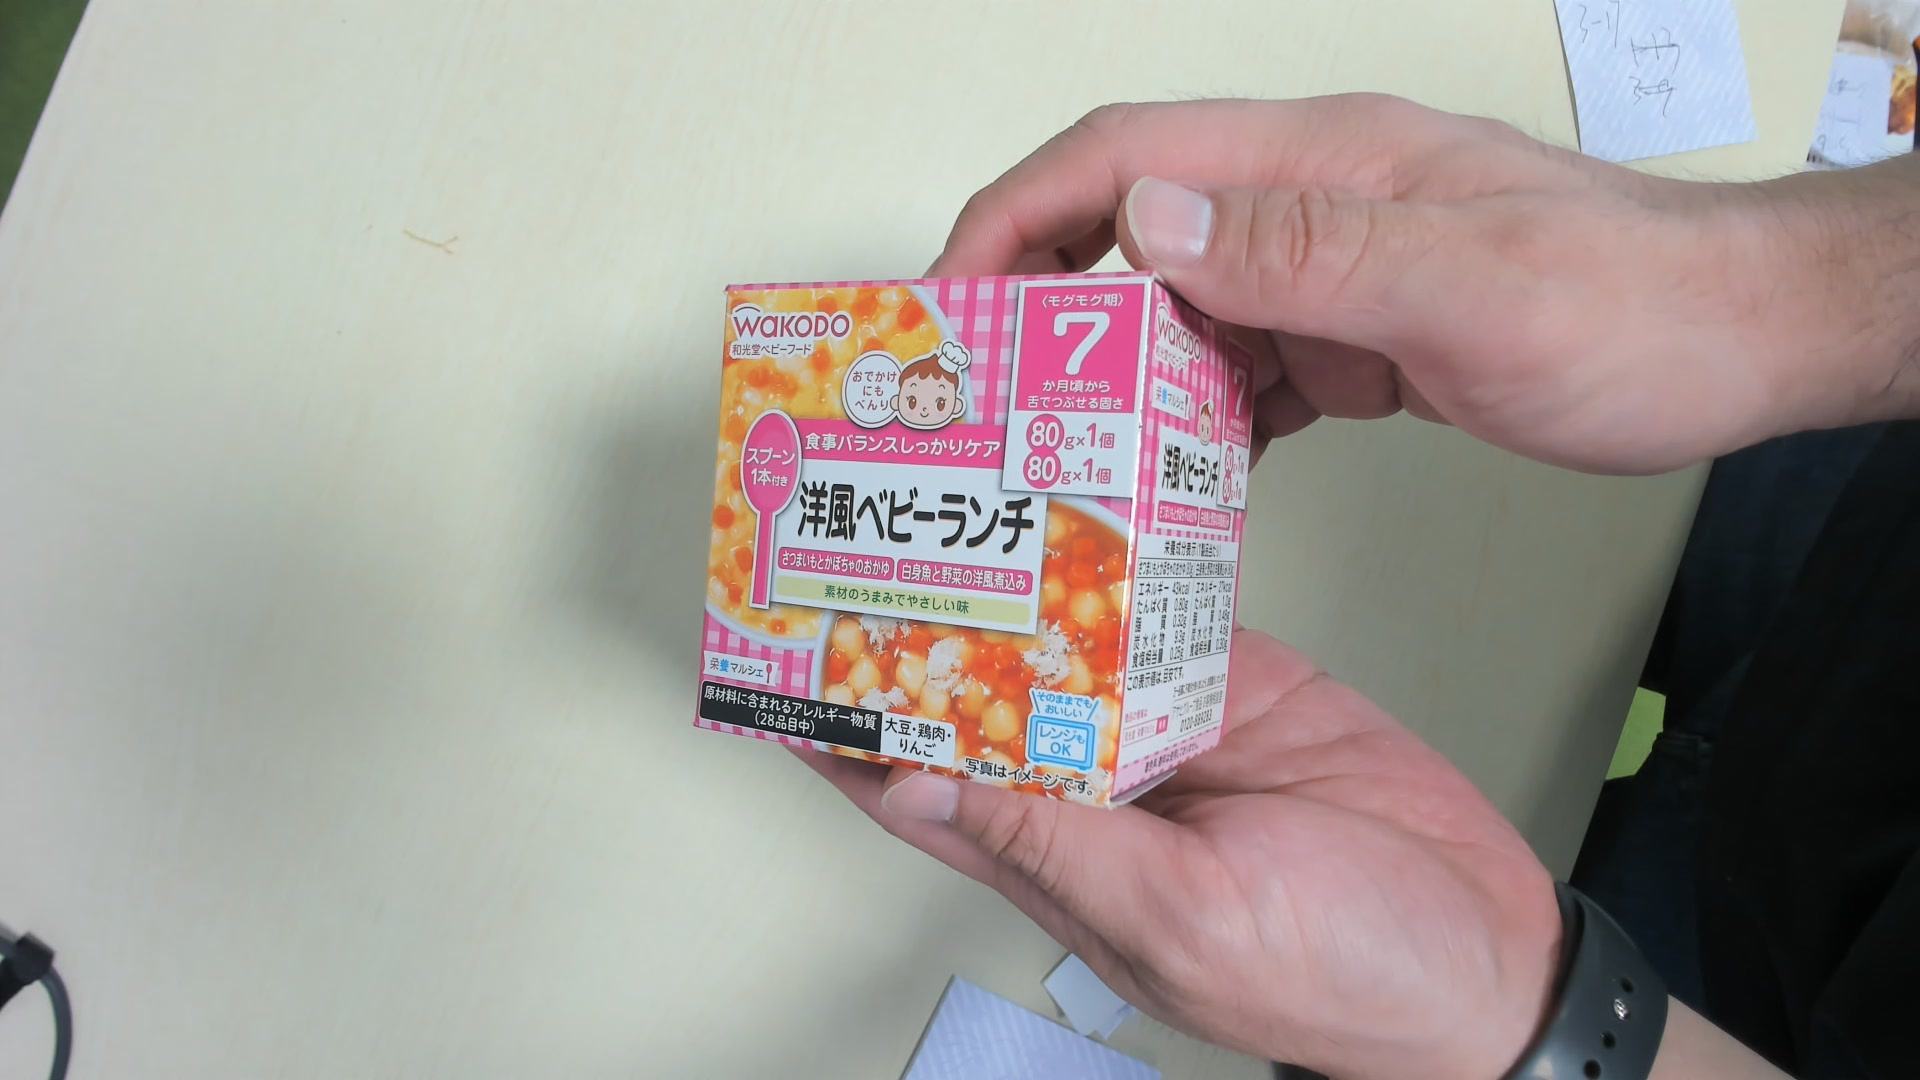InstantMeals_0-99g_NonHalal_NonHealthy: (704, 276, 1259, 807)
